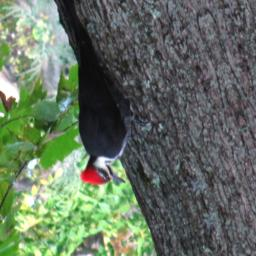Woodpecker: (27, 0, 165, 203)
